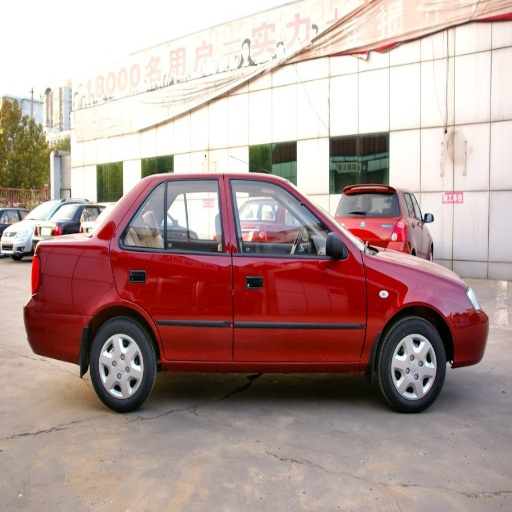back_bumper: (36, 316, 85, 356)
back_right_door: (113, 176, 232, 359)
